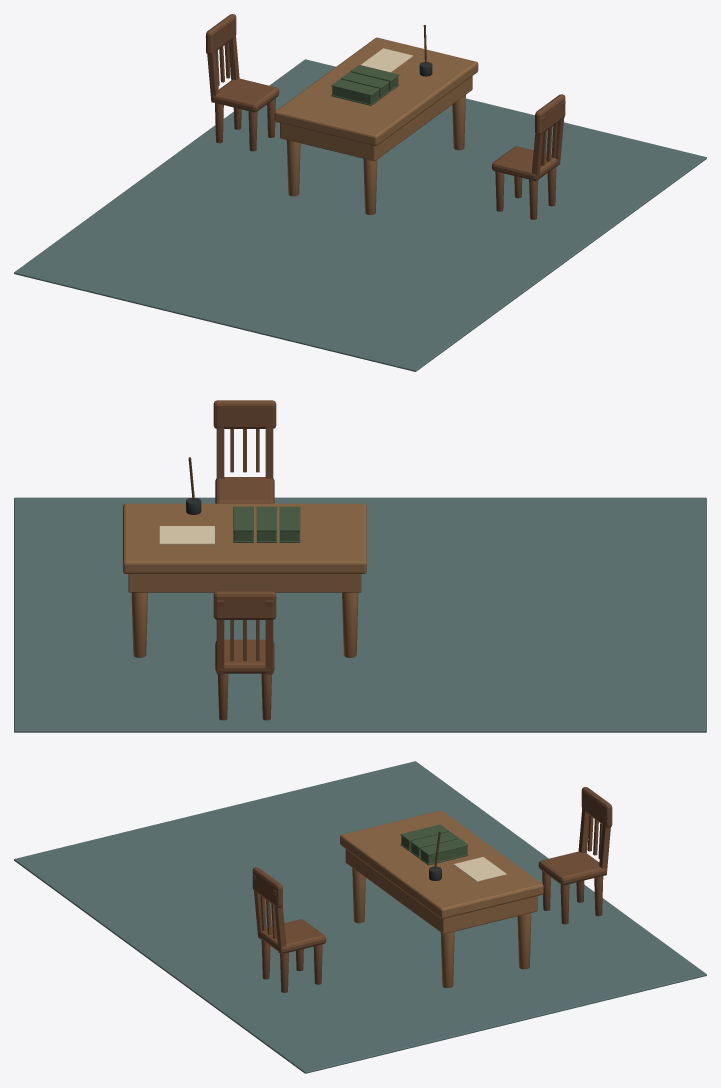
The model's file is SM_CP_PorfiryOfficeSet.fbx.
3 renders of one model, top to bottom at view 1: azimuth 30°, elevation 25°; view 2: azimuth 150°, elevation 25°; view 3: azimuth 270°, elevation 25°, orthographic. The views are drawn at different scales.
Visible parts, largest first — view 1: SM_CP_PorfiryOfficeSet; view 2: SM_CP_PorfiryOfficeSet; view 3: SM_CP_PorfiryOfficeSet.
Part boxes in pixels (x1,y1,x2,y2): SM_CP_PorfiryOfficeSet: (14, 14, 706, 371); SM_CP_PorfiryOfficeSet: (14, 400, 706, 732); SM_CP_PorfiryOfficeSet: (14, 761, 706, 1073).
Size of what is drawn, in the model's own units: 682 by 642 by 140.
